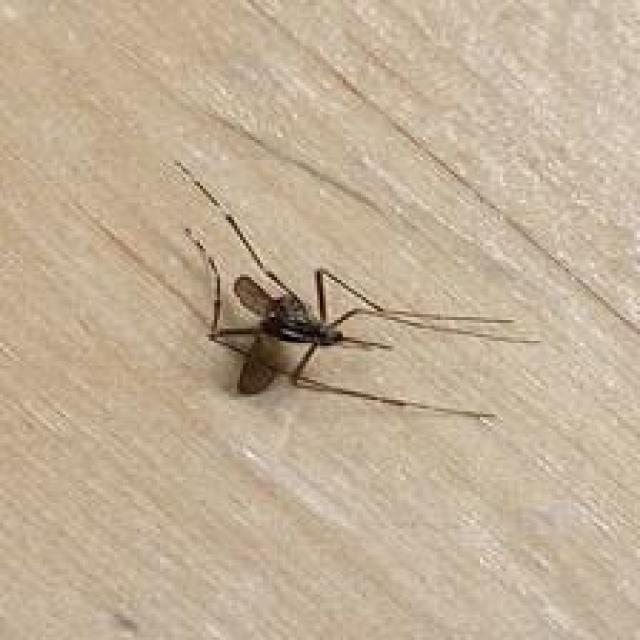Aedes albopictus: (171, 159, 540, 424)
